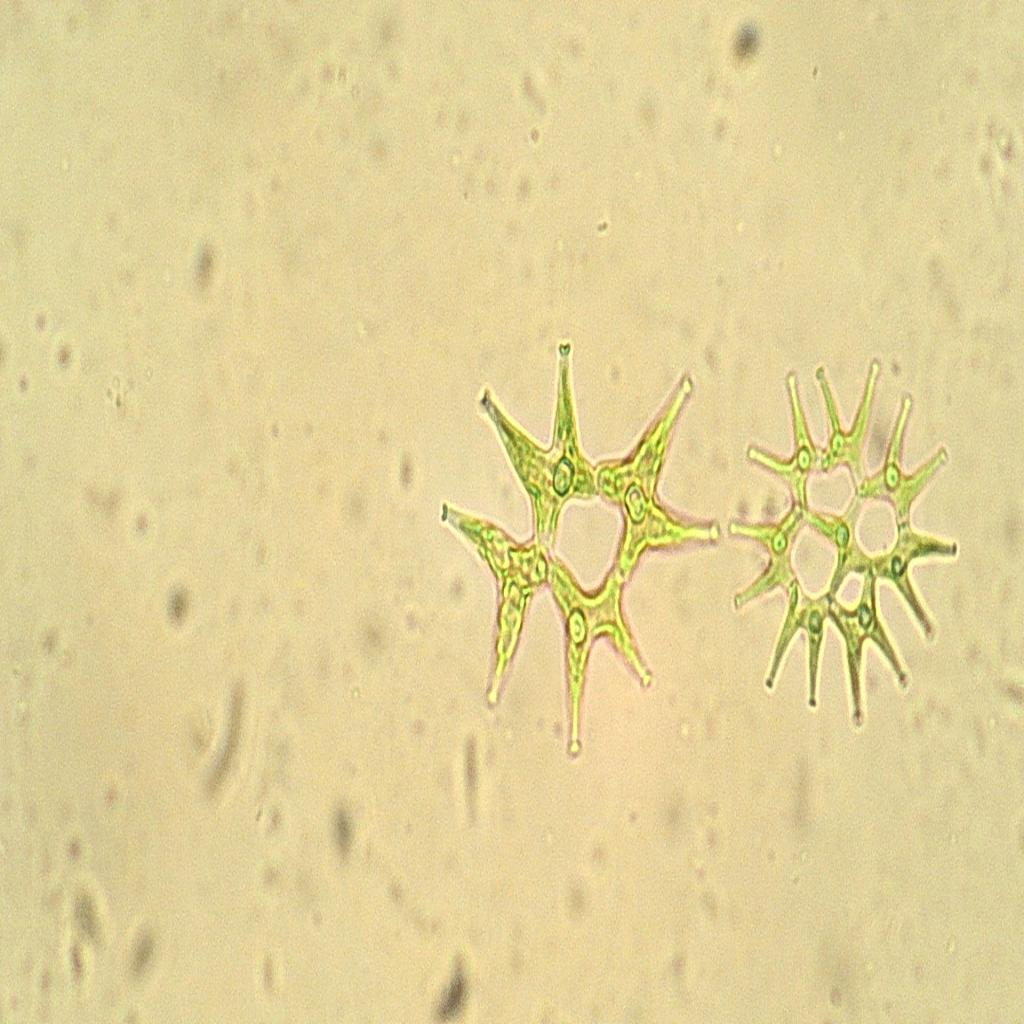Pediastrum_75FI: (424, 326, 726, 766)
